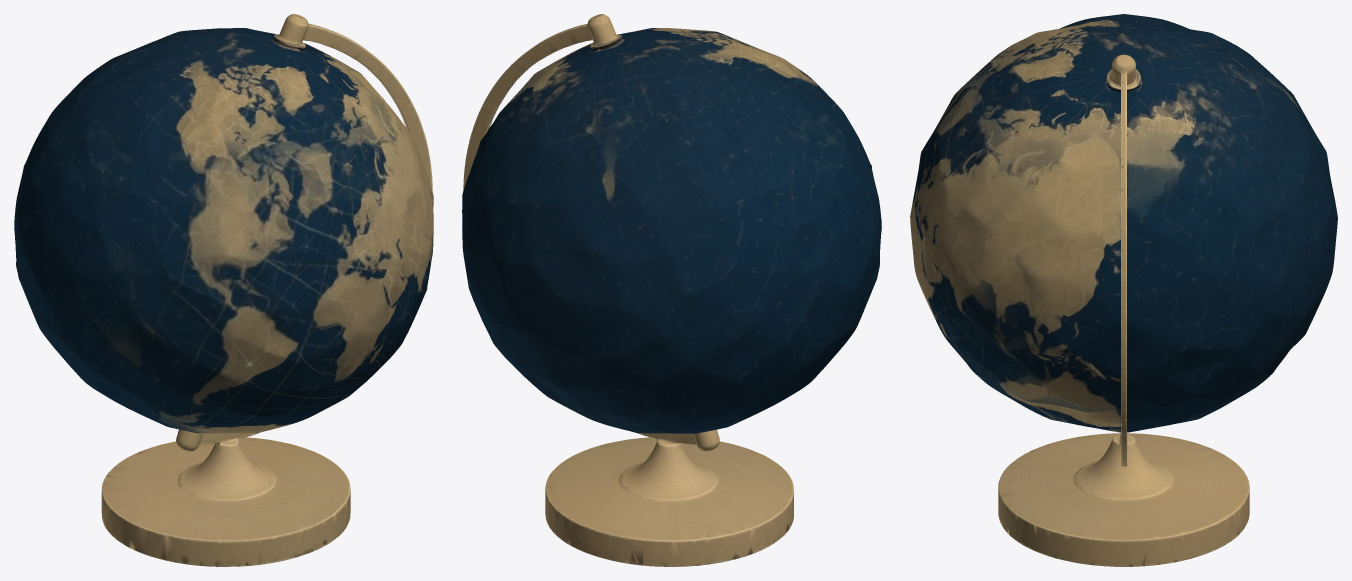
The model's file is globe.glb.
3 views of the same model, side by side, from view 1: azimuth 30°, elevation 25°; view 2: azimuth 150°, elevation 25°; view 3: azimuth 270°, elevation 25° (orthographic).
Bounding box in the file's own units: 1.61 × 1.9 × 1.5.
Materials: 1 (1 with a texture image).
